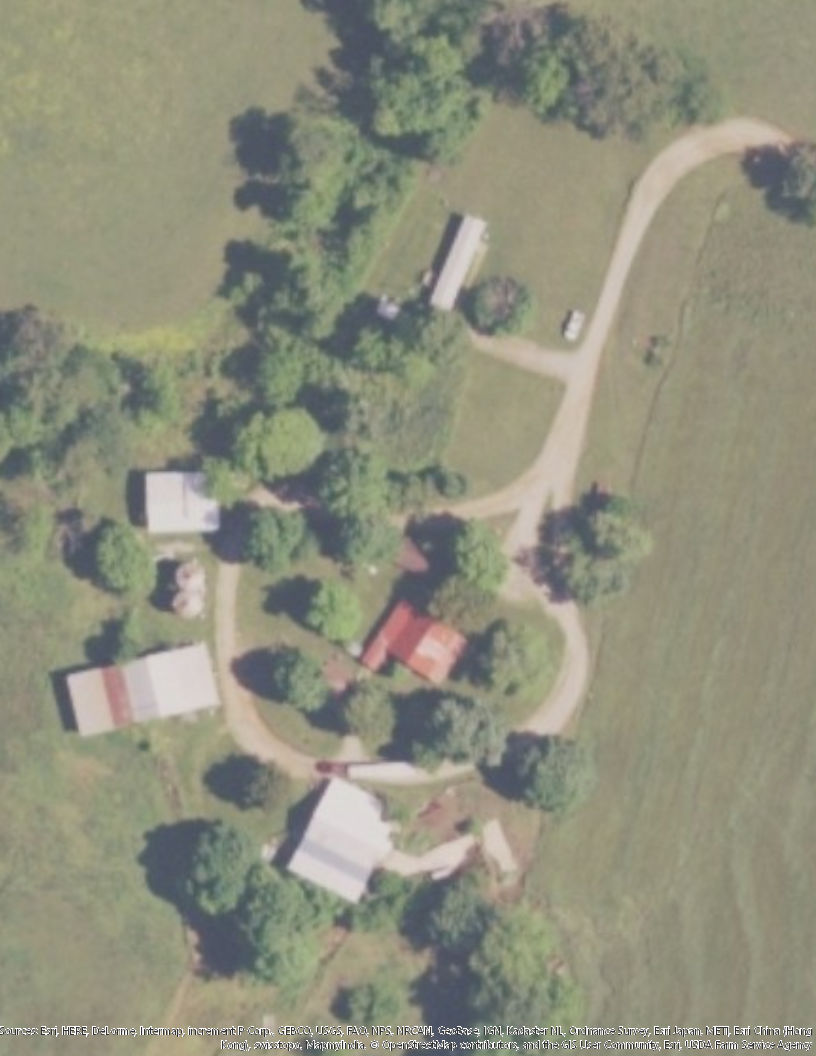cafo: (57, 638, 227, 751), (421, 206, 494, 318)
